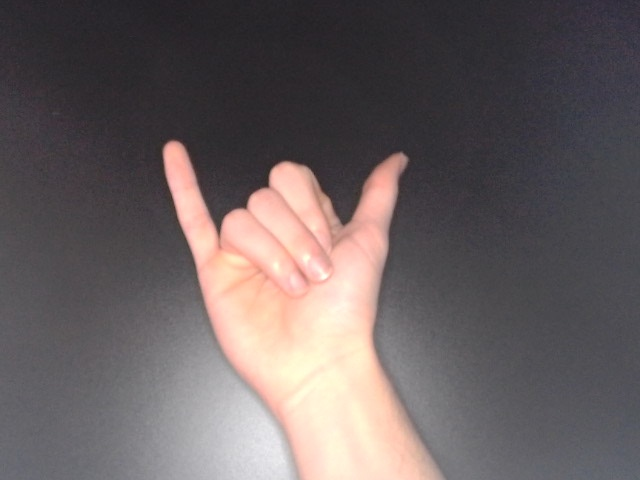y: (156, 133, 414, 406)
